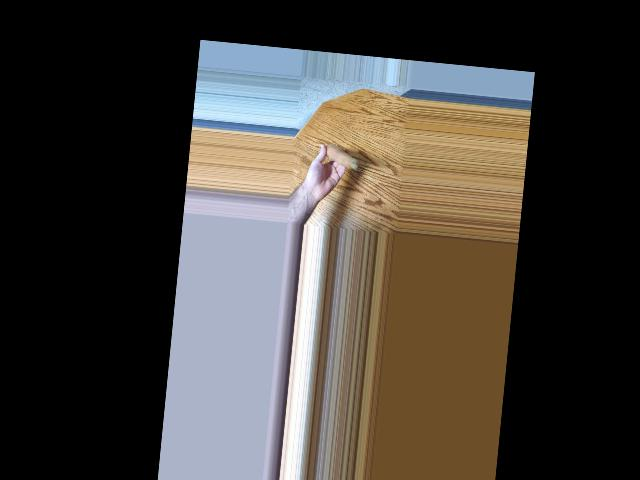sweet_potato: (321, 143, 360, 171)
